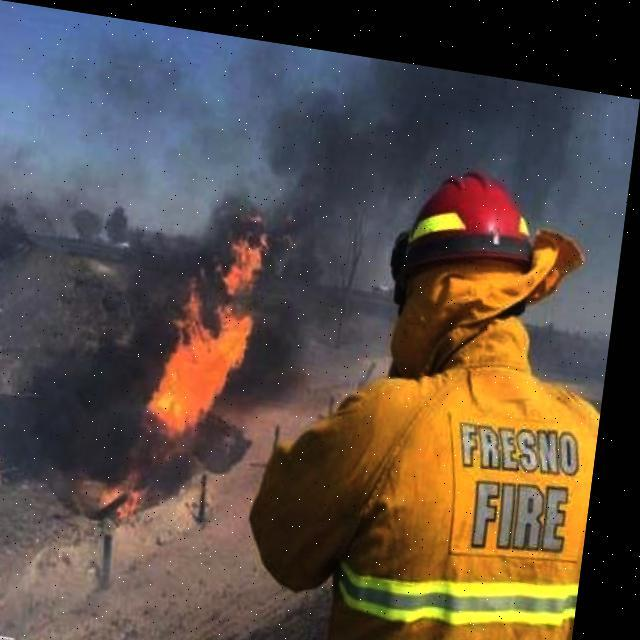Fire: (82, 192, 280, 527)
